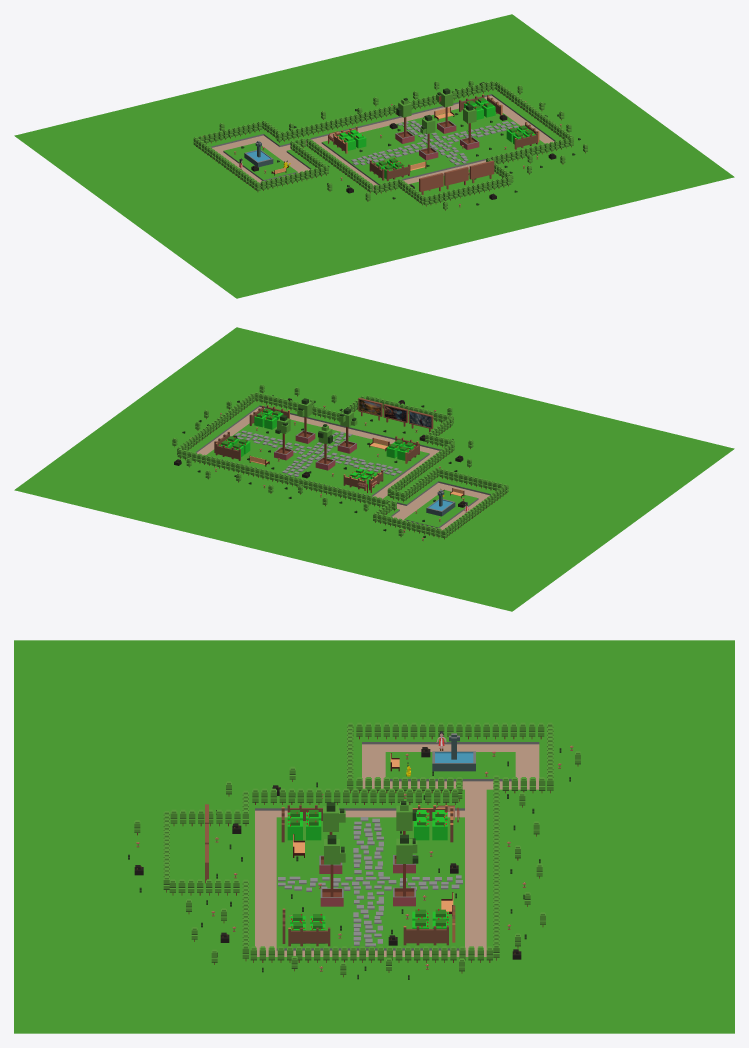
3 renders of one model, top to bottom at view 1: azimuth 30°, elevation 25°; view 2: azimuth 150°, elevation 25°; view 3: azimuth 270°, elevation 25°, orthographic. The views are drawn at different scales.
Parts seen in each view (by area): view 1: World; view 2: World; view 3: World.
Boxes of the visible parts, left/top/right/bottom form: World: left=14, top=14, right=734, bottom=298; World: left=14, top=327, right=734, bottom=611; World: left=14, top=640, right=734, bottom=1033.
Size of what is drawn, in the model's own units: 804 by 66.02 by 622.
39 materials, 3 textured.
